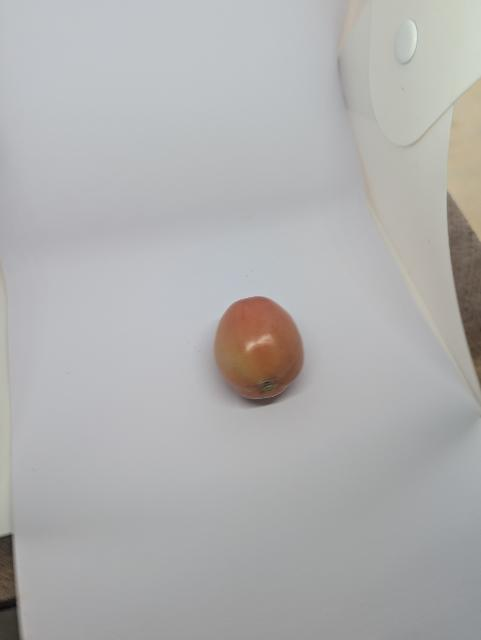turning: (211, 289, 310, 407)
